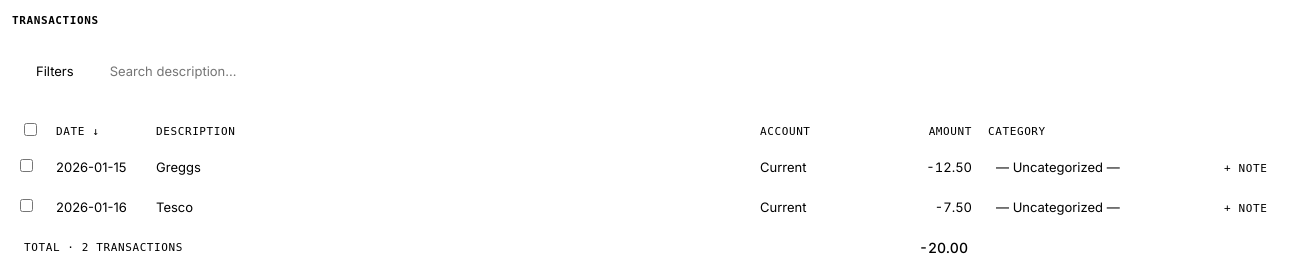
Test: ledger controls card › selecting a row turns the search box into the categorize box
This screenshot has width=1292, height=272.
Click the checkbox named "Select Greggs".
click(26, 166)  # box [20,159,33,172]
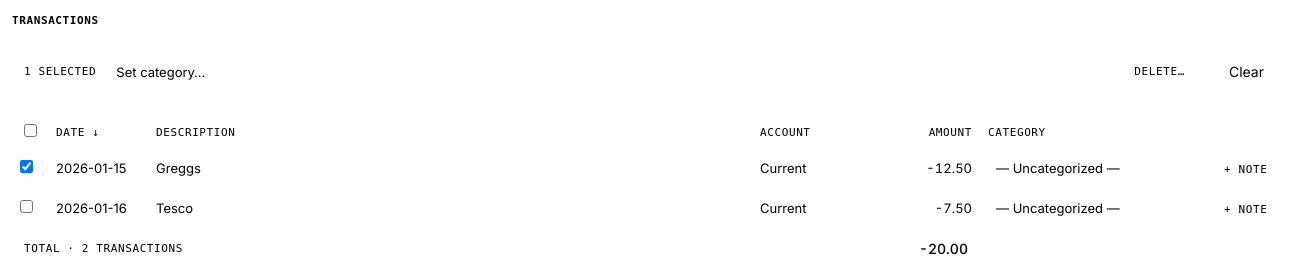
Check: the text "1 selected" is shown, box [24,65,96,78]
Check: the button with aria-label "Set category for selected transactions" is shown, box [108,60,308,84]
Check: the button "Delete…" is shown, box [1118,57,1201,86]
